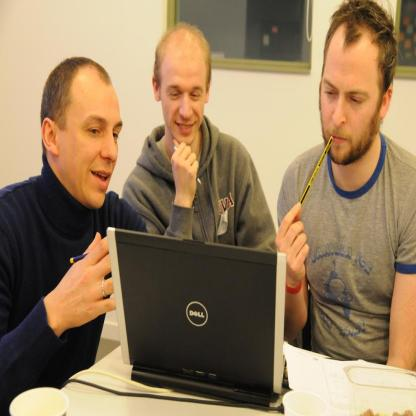board: (107, 227, 287, 408)
